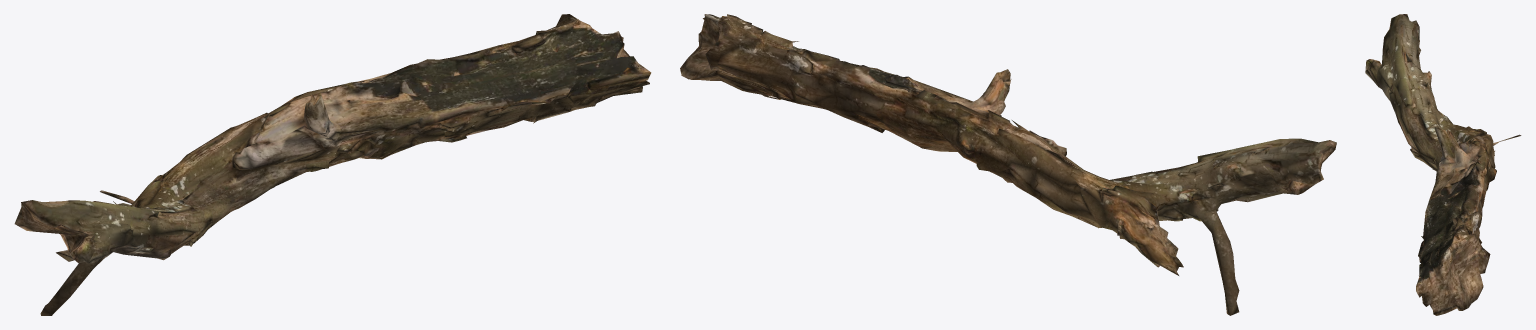
The model's file is deadtree.glb.
3 views of the same model, side by side, from view 1: azimuth 30°, elevation 25°; view 2: azimuth 150°, elevation 25°; view 3: azimuth 270°, elevation 25° (orthographic). The views are drawn at different scales.
Visible parts, largest first — view 1: dead_tree_trunk_02; view 2: dead_tree_trunk_02; view 3: dead_tree_trunk_02.
Boxes of the visible parts, x1=… form: dead_tree_trunk_02: x1=14, y1=14, x2=651, y2=315; dead_tree_trunk_02: x1=680, y1=14, x2=1336, y2=315; dead_tree_trunk_02: x1=1365, y1=14, x2=1521, y2=315.
Bounding box in the file's own units: 4.05 × 1.05 × 1.05.
Materials: 1 (1 with a texture image).
